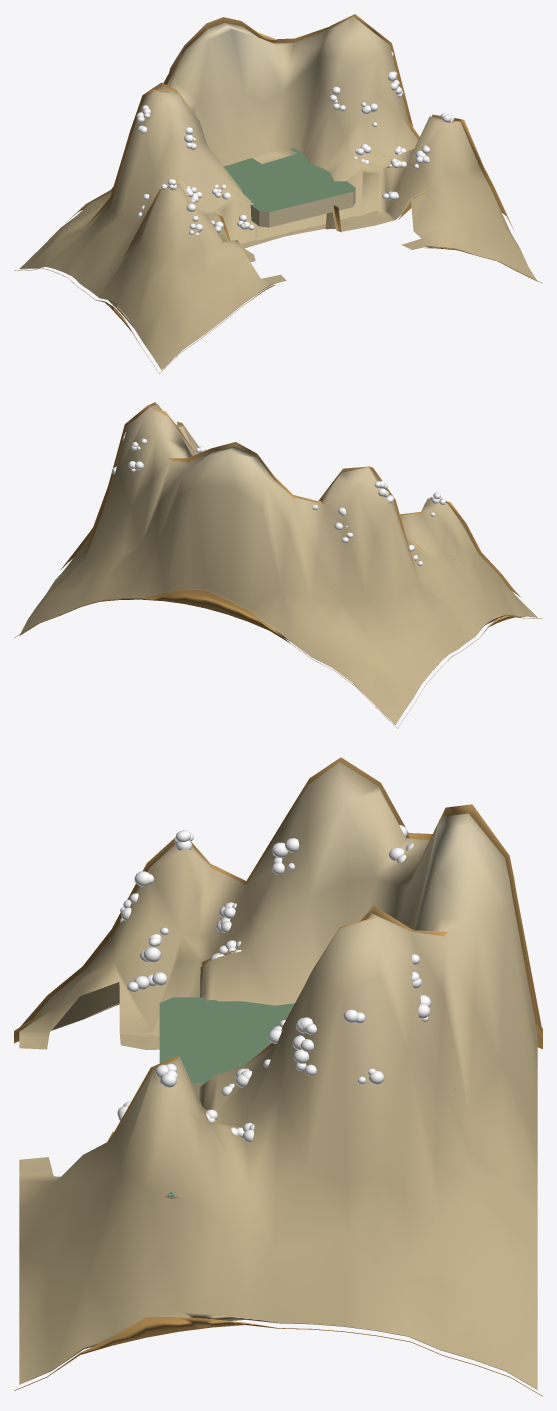
Rendered from terrain-blue.glb.
The picture shows the model from 3 angles, top to bottom: view 1: azimuth 30°, elevation 25°; view 2: azimuth 150°, elevation 25°; view 3: azimuth 270°, elevation 25°; orthographic projection. The views are drawn at different scales.
Visible parts, largest first — view 1: citadel-oskar-grid-mountain-surface, highland-town-foundation-platform, backlit-highlight-citadel-oskar-grid-mountain-surface, highland-town-foundation-platform-side; view 2: citadel-oskar-grid-mountain-surface, backlit-highlight-citadel-oskar-grid-mountain-surface; view 3: citadel-oskar-grid-mountain-surface, backlit-highlight-citadel-oskar-grid-mountain-surface, highland-town-foundation-platform.
Part boxes in pixels (x1,y1,x2,y2): citadel-oskar-grid-mountain-surface: (19, 16, 537, 369); highland-town-foundation-platform: (223, 148, 355, 212); backlit-highlight-citadel-oskar-grid-mountain-surface: (14, 14, 542, 373); highland-town-foundation-platform-side: (250, 188, 355, 227); citadel-oskar-grid-mountain-surface: (19, 404, 537, 724); backlit-highlight-citadel-oskar-grid-mountain-surface: (14, 402, 542, 728); citadel-oskar-grid-mountain-surface: (19, 762, 537, 1389); backlit-highlight-citadel-oskar-grid-mountain-surface: (14, 757, 542, 1396); highland-town-foundation-platform: (159, 997, 294, 1082).
Size of the model in its own units: 184 by 103 by 120.
